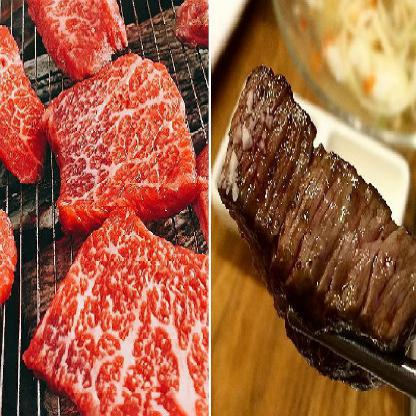beef: (74, 216, 214, 414), (60, 63, 192, 209)
